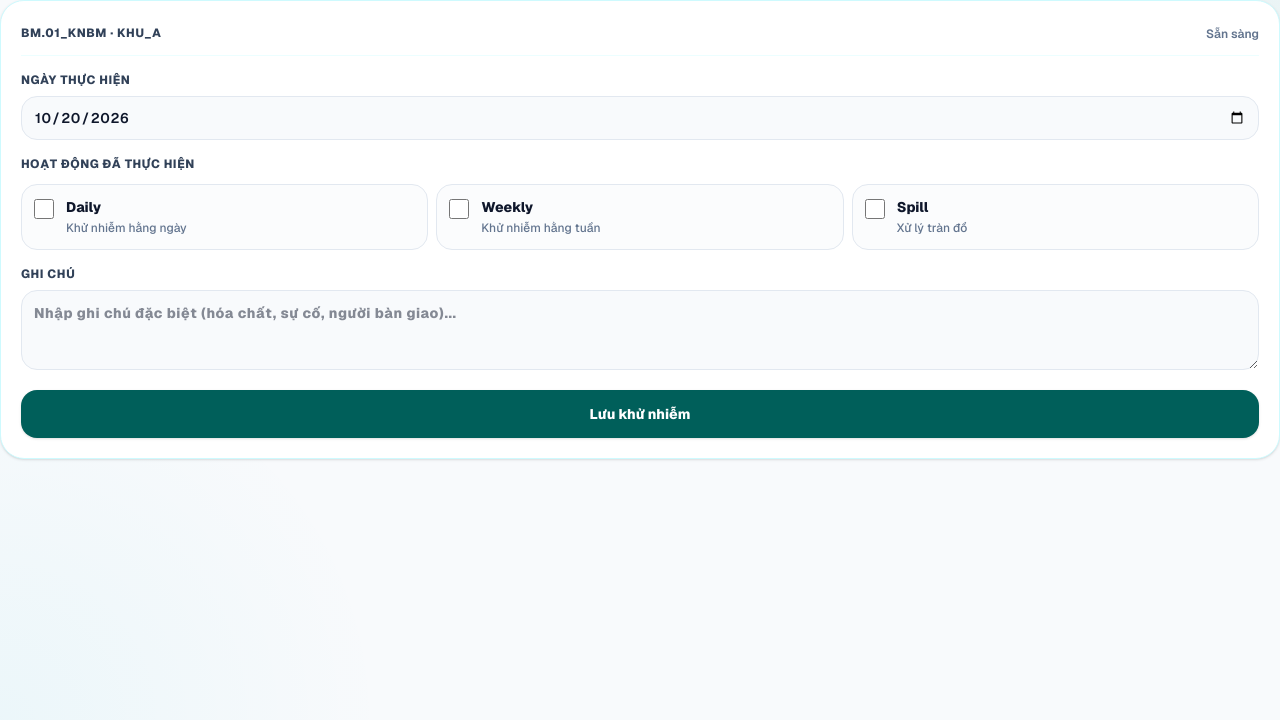
Task 3: BM01_KNBM Decontamination Save Reliability › handles failed save: displays error, keeps checkbox selections and note, provides retry
This screenshot has width=1280, height=720.
# Check weekly and enter note
Click the checkbox labelled "Weekly Khử nhiễm hằng tuần" at {"x": 459, "y": 209}, box x1=449 y1=199 x2=469 y2=219
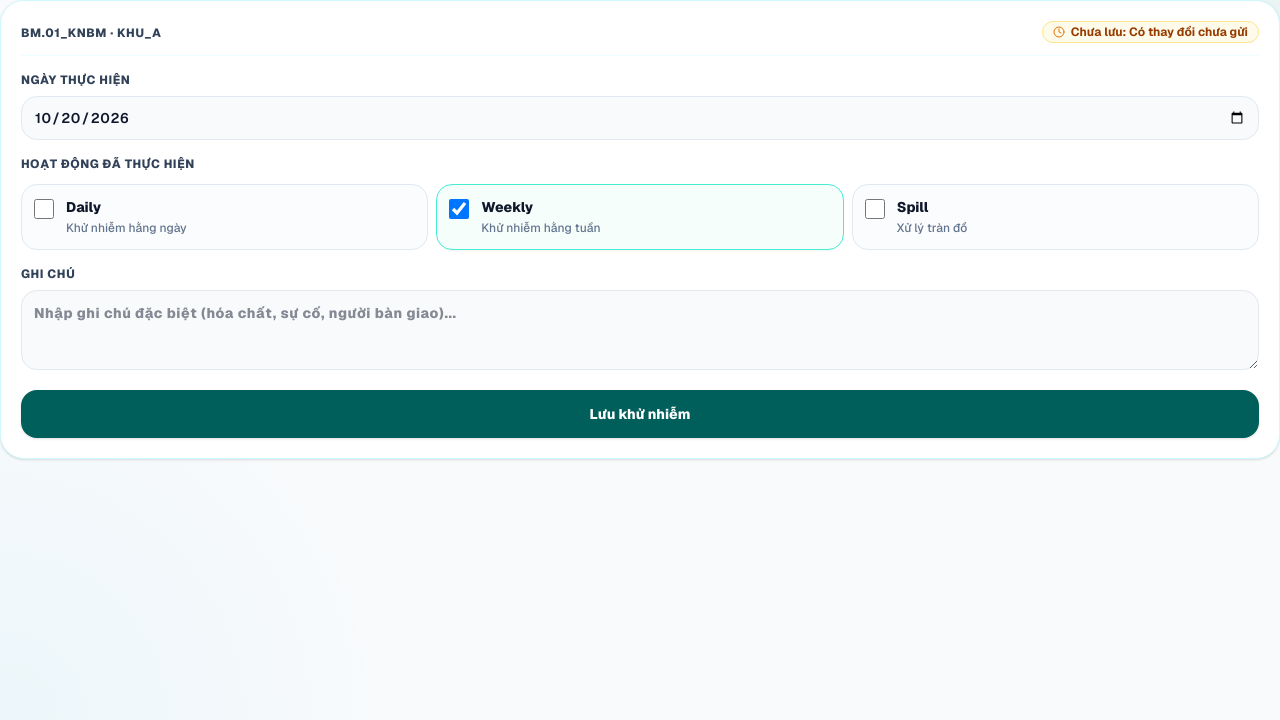
Type "Đã lau cồn 70 độ toàn bộ bàn" into the text box with placeholder "Nhập ghi chú đặc biệt (hóa chất, sự cố, người bàn giao)..." at {"x": 640, "y": 330}, box x1=21 y1=290 x2=1259 y2=370
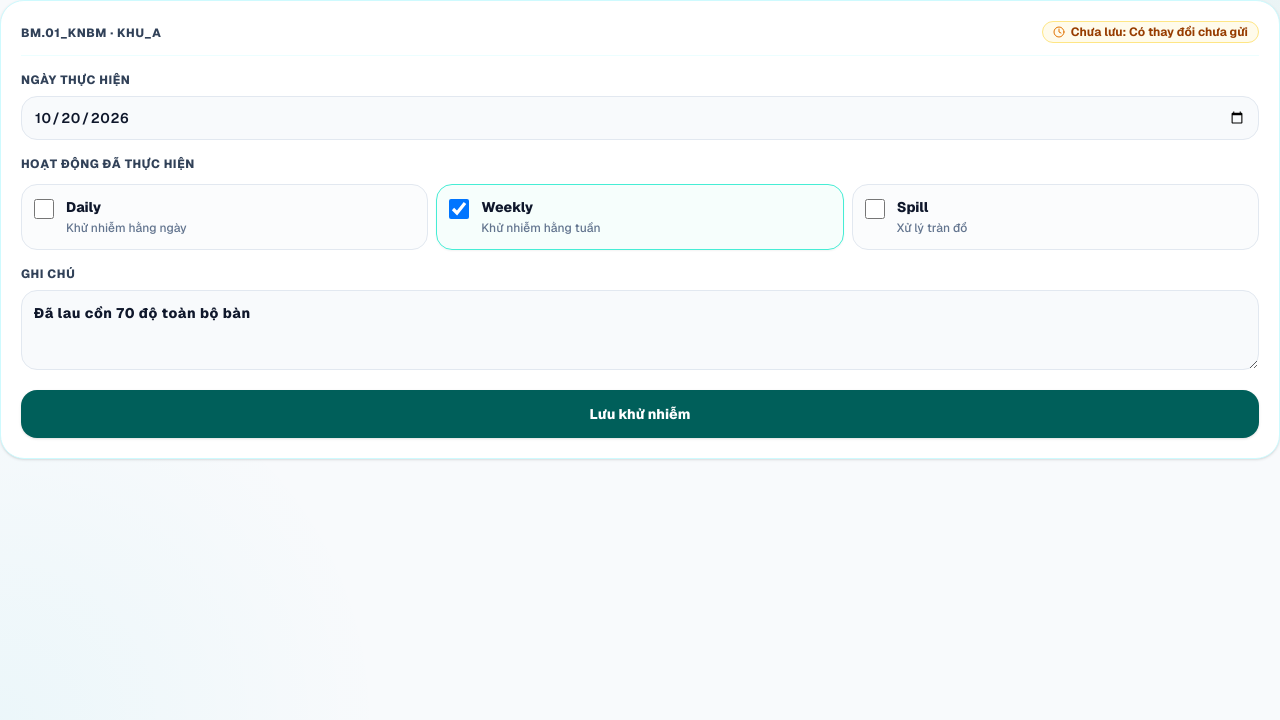
Click the button "Lưu khử nhiễm" at {"x": 640, "y": 414}, box x1=21 y1=390 x2=1259 y2=438
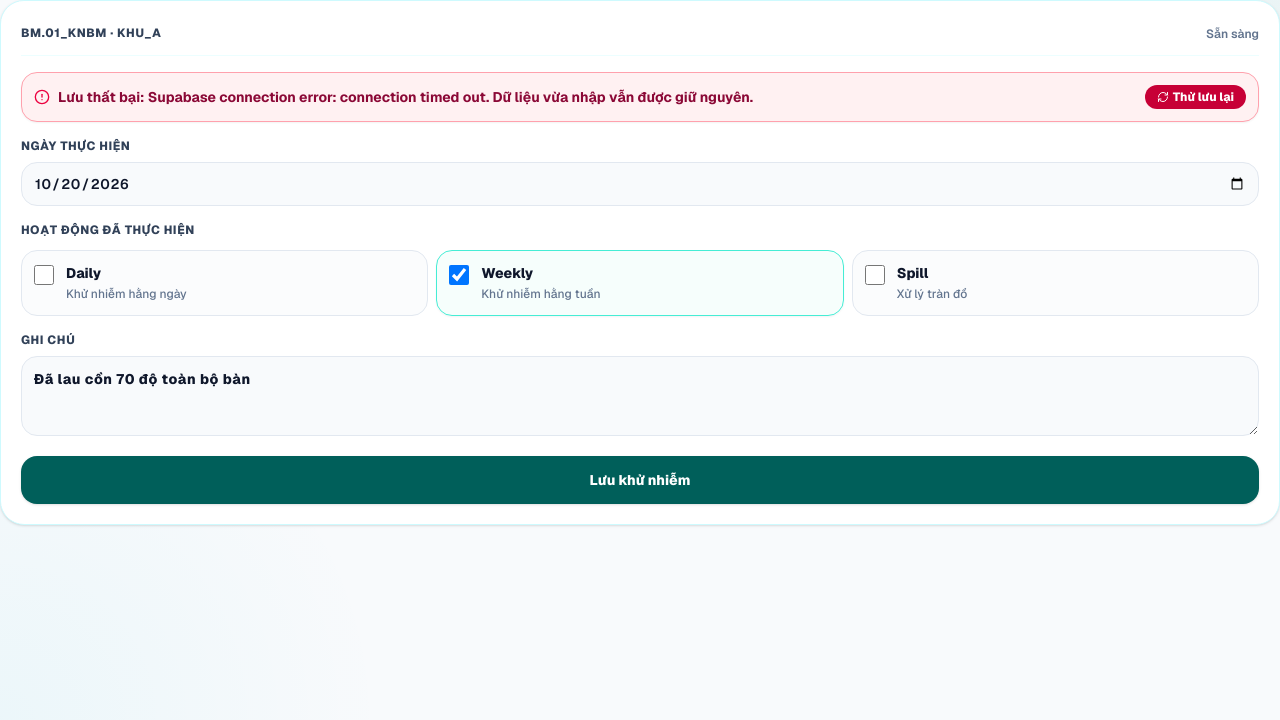
Check: the checkbox labelled "Weekly Khử nhiễm hằng tuần" is checked, box x1=449 y1=265 x2=469 y2=285
Check: the text "Lưu thất bại: Supabase connection error" is shown, box x1=58 y1=87 x2=753 y2=107
Check: the button "Thử lưu lại" is shown, box x1=1145 y1=85 x2=1246 y2=109
